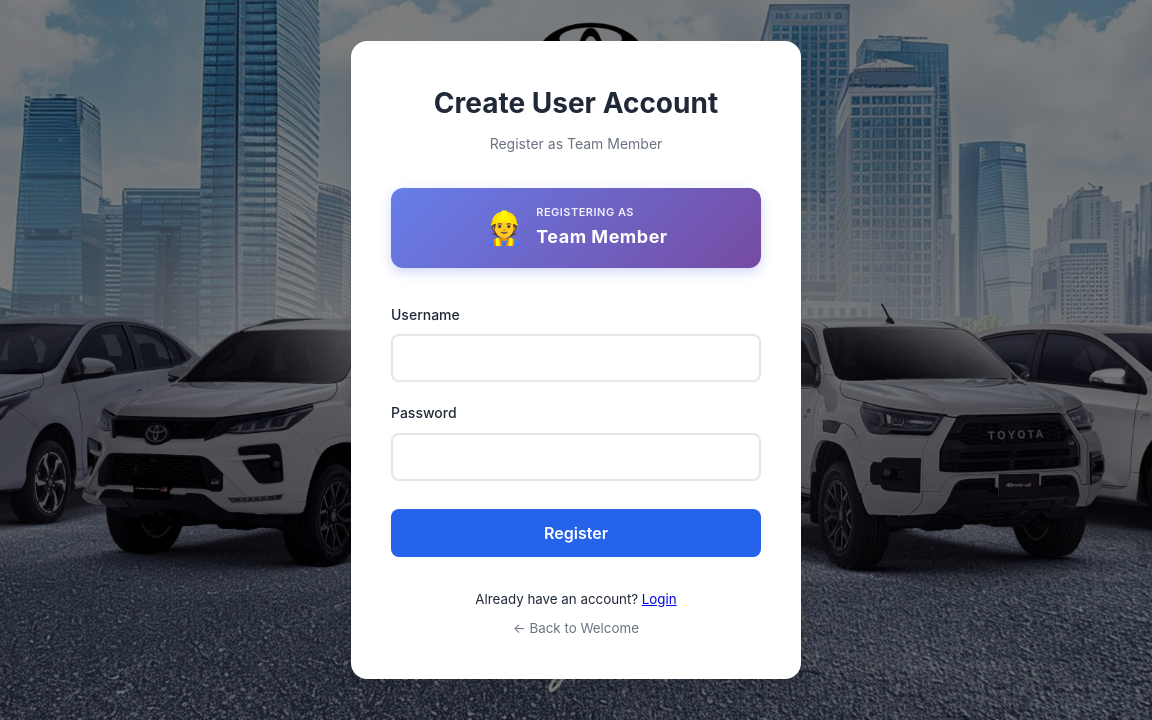
Test case: Register Page › should display error message on failed registration
The image size is (1152, 720).
Type "existing" into the field labelled "Username". click: (576, 358)
box: [391, 334, 761, 382]
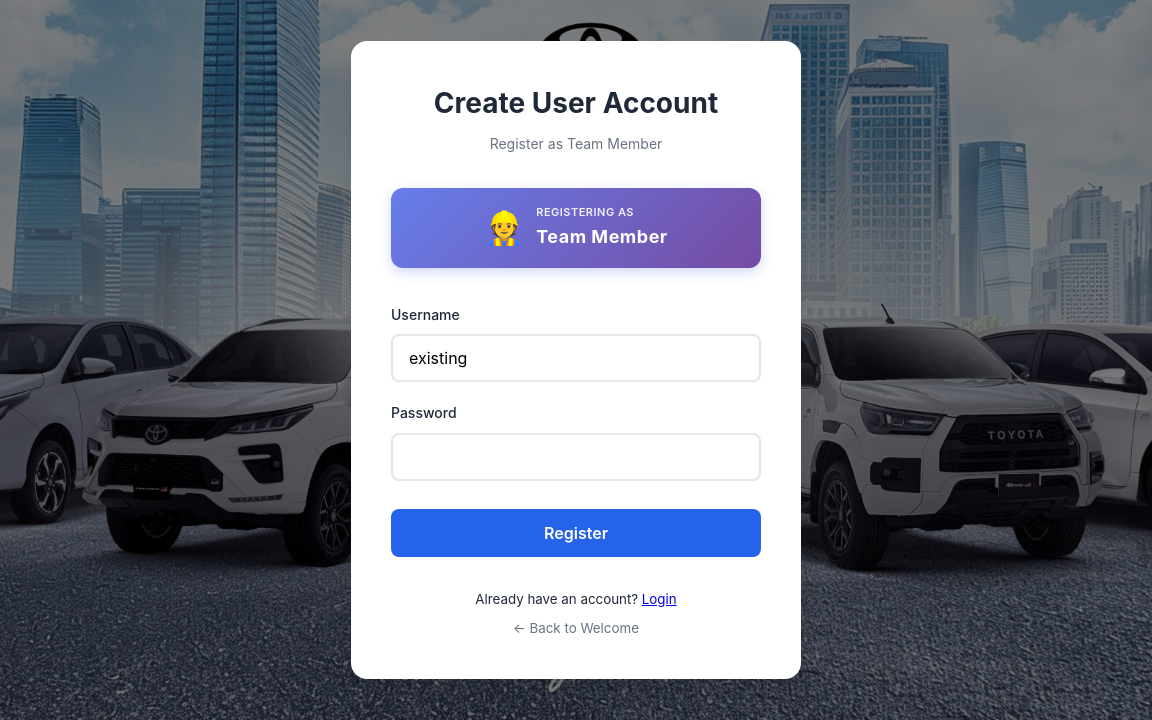
Type "pass" into the password field labelled "Password". click: (576, 457)
box: [391, 433, 761, 481]
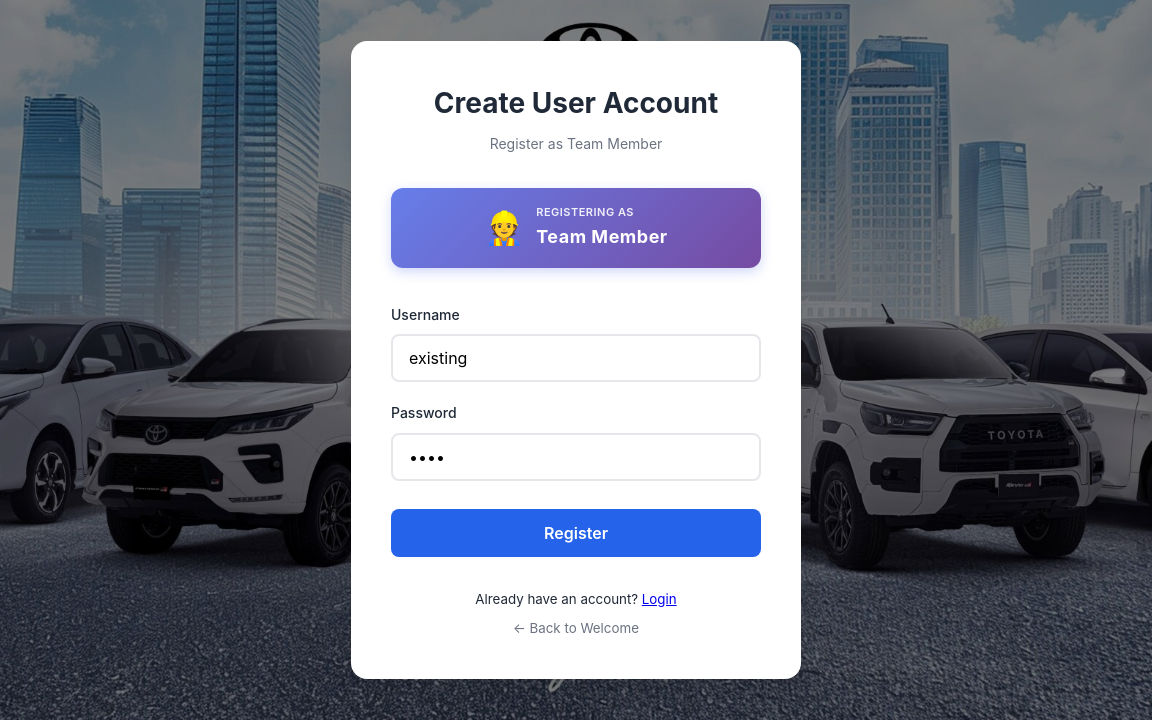
Click the button "Register". click: (576, 533)
box: [391, 509, 761, 557]
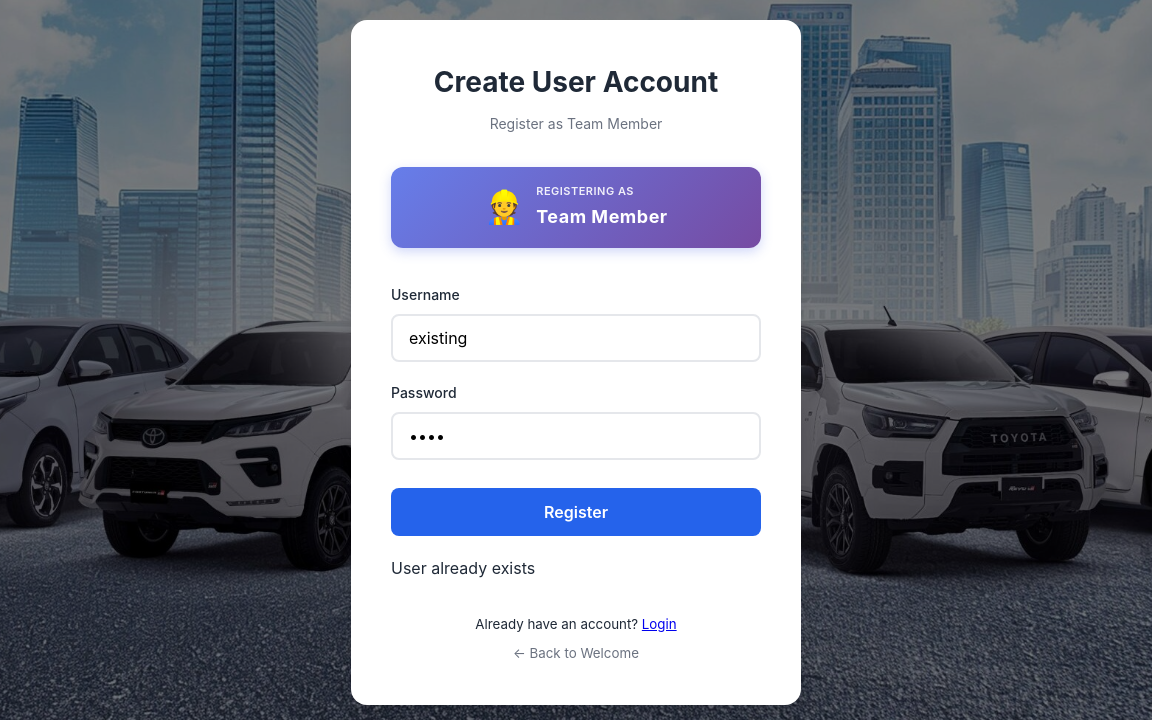
Expected: the message reads "User already exists", [391, 558, 535, 578]
